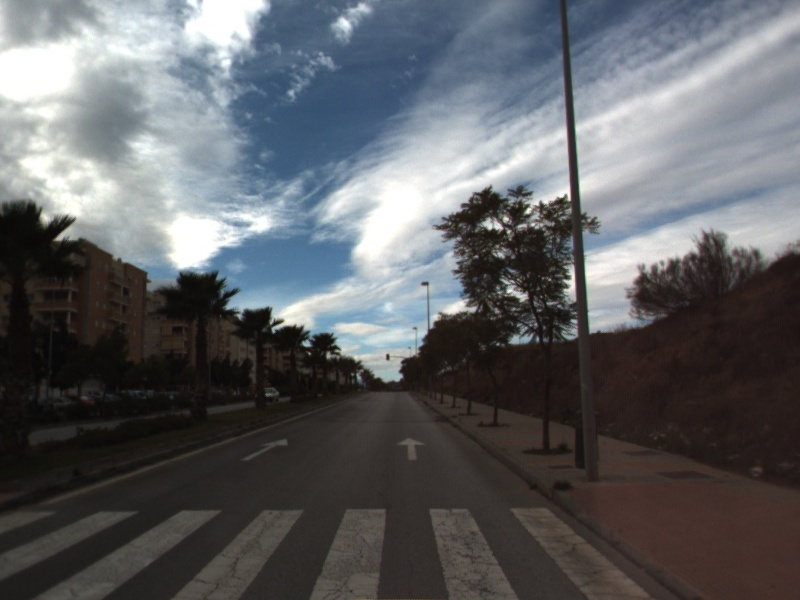STRAIGHT: (238, 436, 290, 463), (395, 435, 427, 462)
